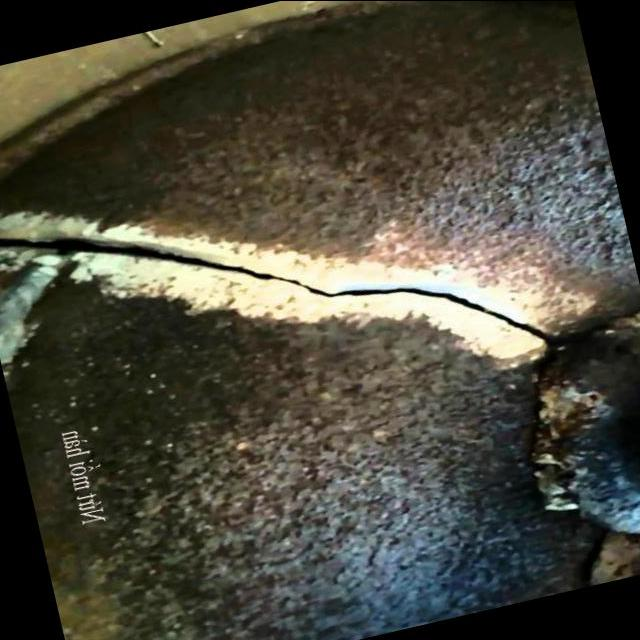defect: (0, 229, 574, 347)
